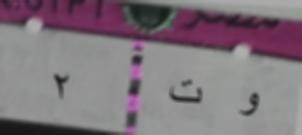2: (52, 66, 72, 105)
taa: (163, 74, 208, 112)
waw: (232, 85, 264, 123)
